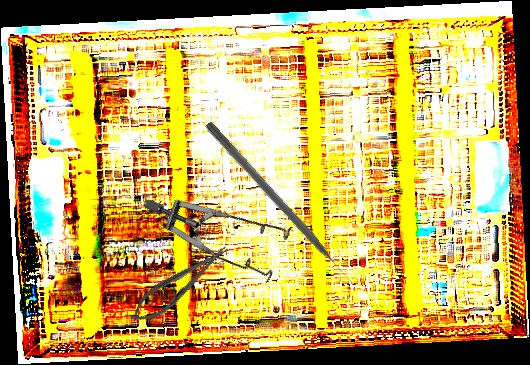Needle Holder: (123, 237, 236, 332)
Pusher: (202, 120, 356, 288)
Speculum: (141, 141, 309, 315)
